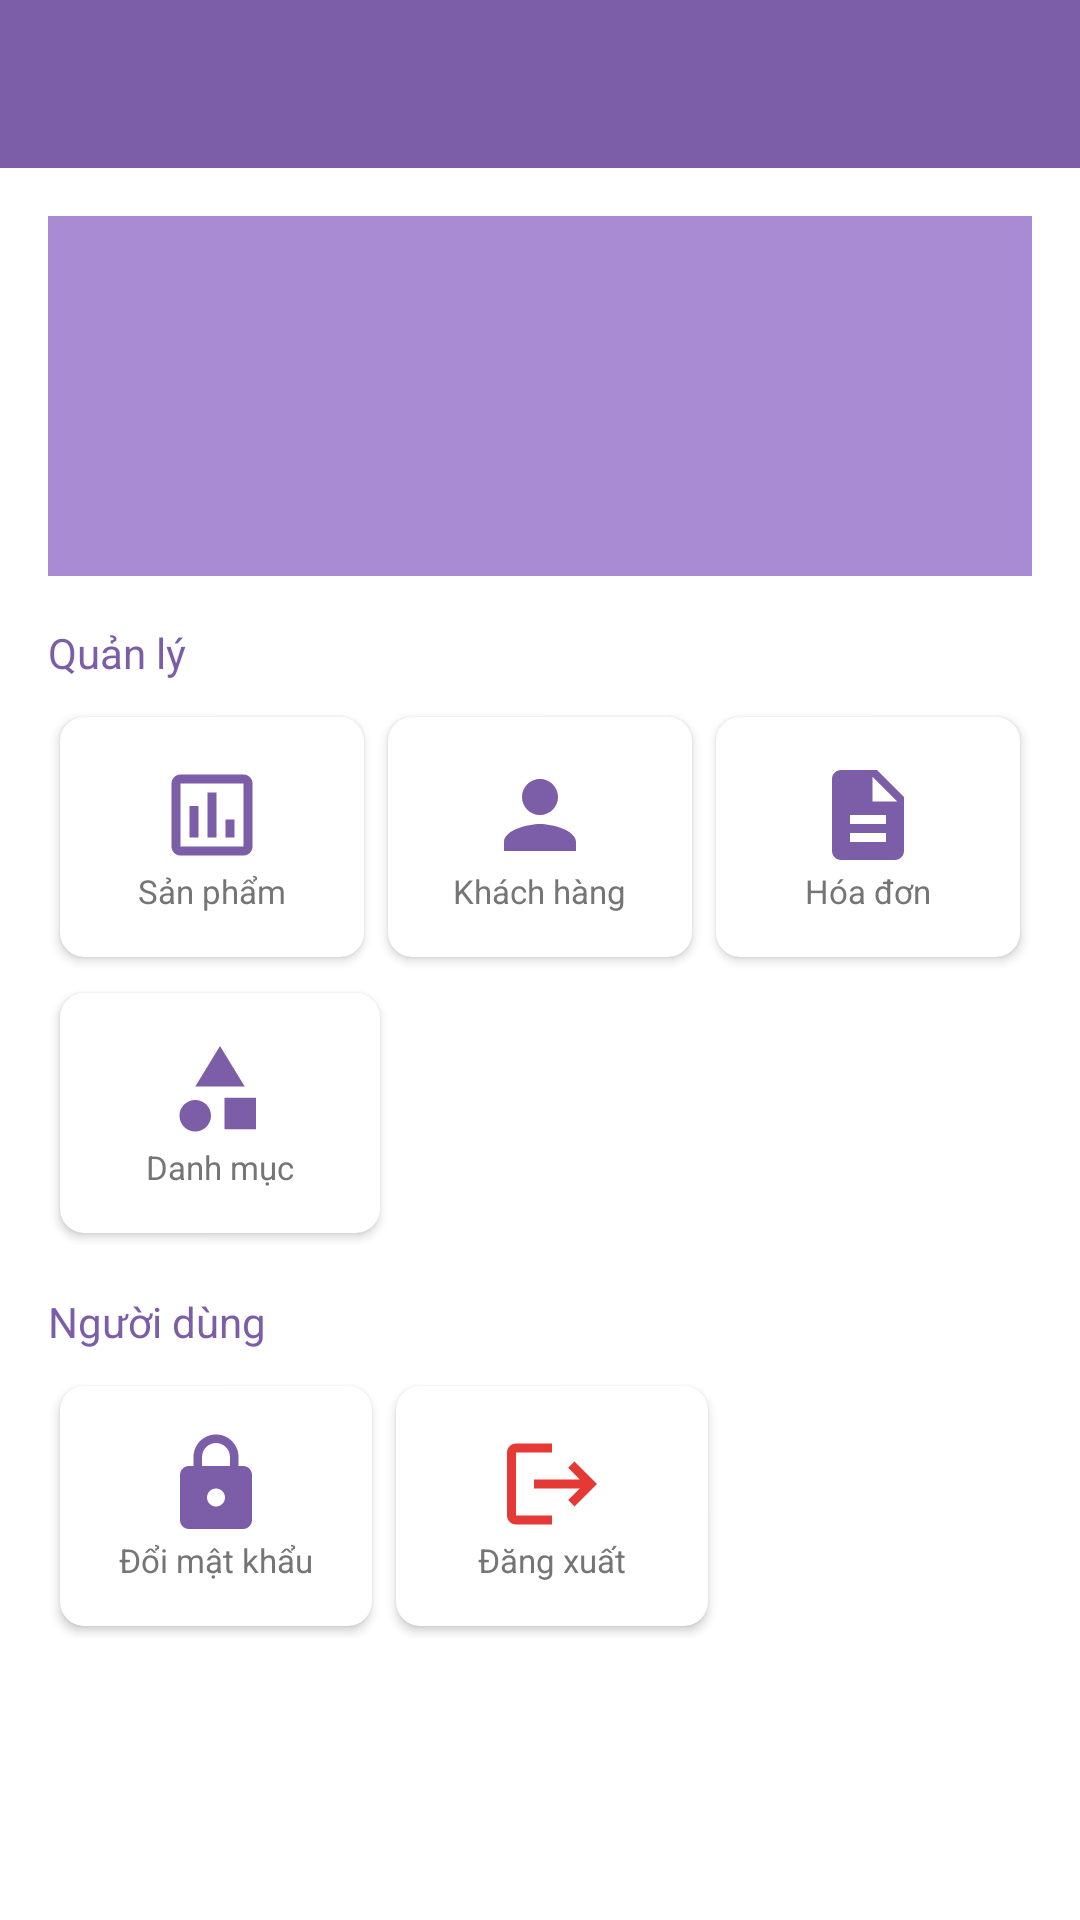

Screen size 1080px x 1920px. Icon name, then its center in pixels as point (x, y):
lock: point (216, 1481)
